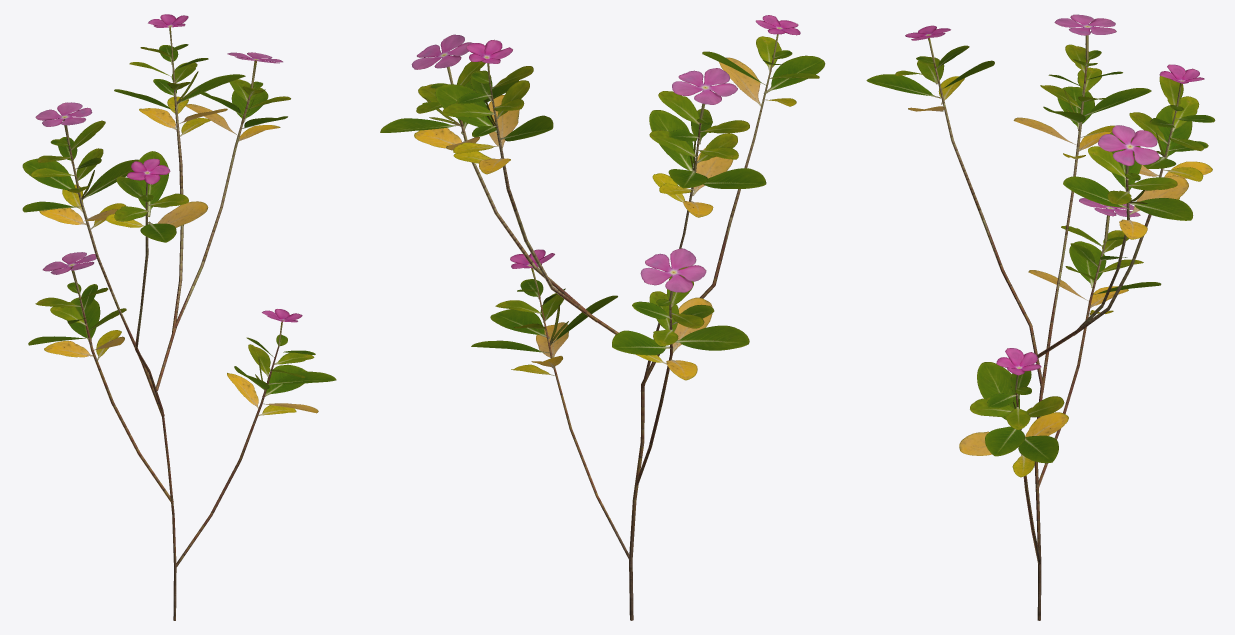
The model's file is periwinkle_plant_02.gltf.
3 renders of one model, left to right at view 1: azimuth 30°, elevation 25°; view 2: azimuth 150°, elevation 25°; view 3: azimuth 270°, elevation 25°, orthographic. The views are drawn at different scales.
Parts seen in each view (by area): view 1: periwinkle_plant_02__x; view 2: periwinkle_plant_02__x; view 3: periwinkle_plant_02__x.
Boxes of the visible parts, box(x1,y1,x2,y2) form: periwinkle_plant_02__x: box(22, 14, 336, 620); periwinkle_plant_02__x: box(380, 15, 825, 620); periwinkle_plant_02__x: box(866, 14, 1215, 620).
Bounding box in the file's own units: 0.2402 × 0.4104 × 0.2327.
Materials: 1 (1 with a texture image).
